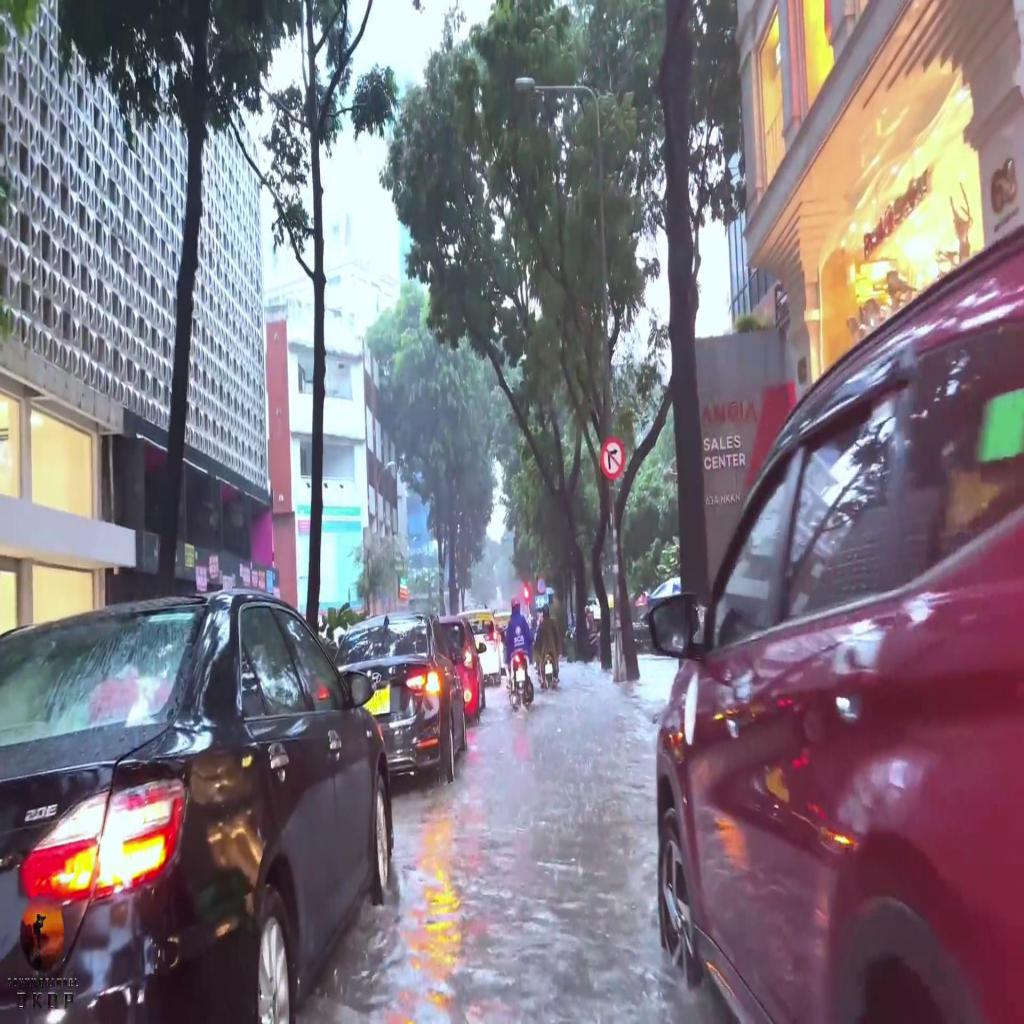cam_re_phai: (601, 435, 625, 481)
